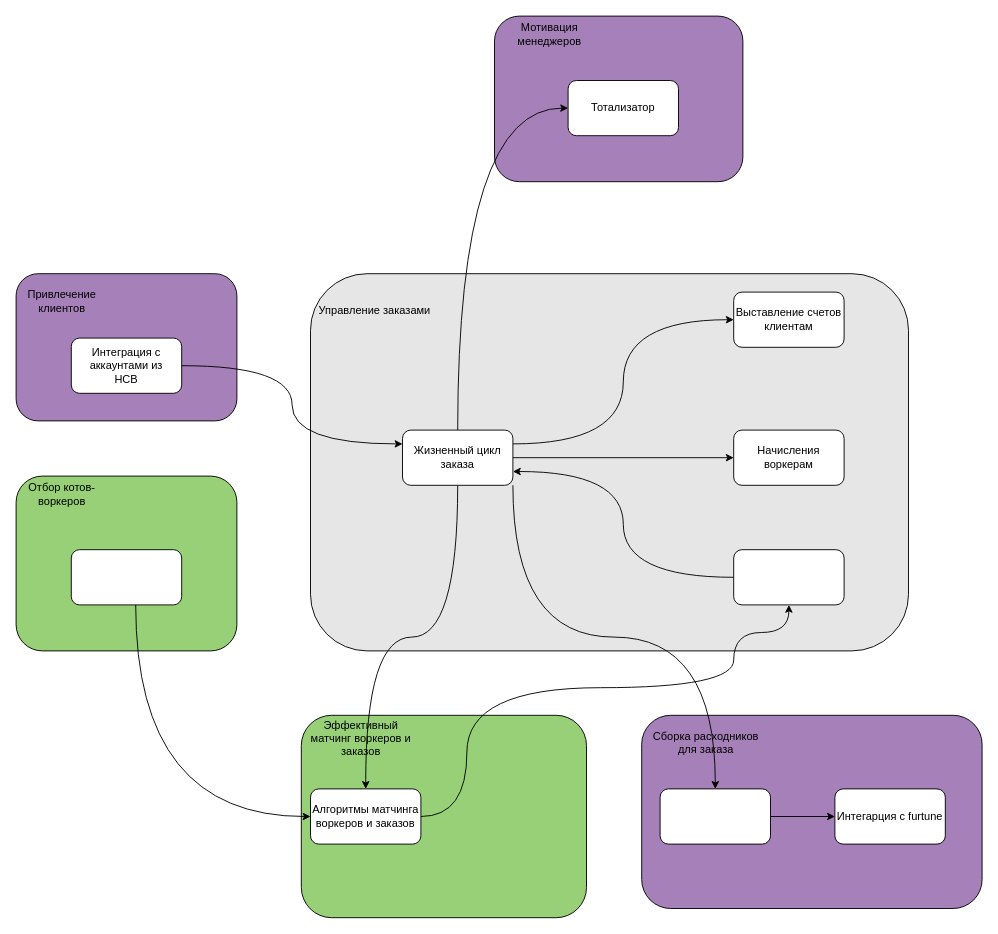
This 998x934 diagram has some shape labels left out. The centre of each missing label's shape, as x and y in pixels:
Аналитика по заказам: [788,577]
Отбор и найм воркеров: [126,577]
Склад расходников: [714,816]
